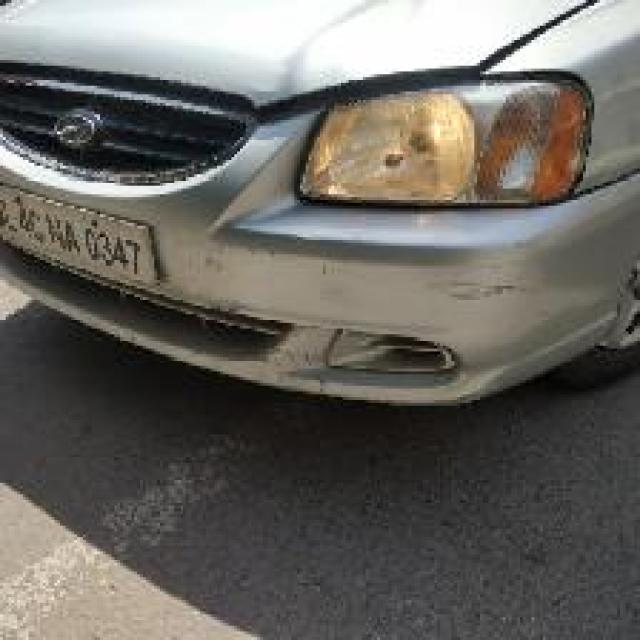bumper_scratch_minor: (289, 254, 637, 354)
